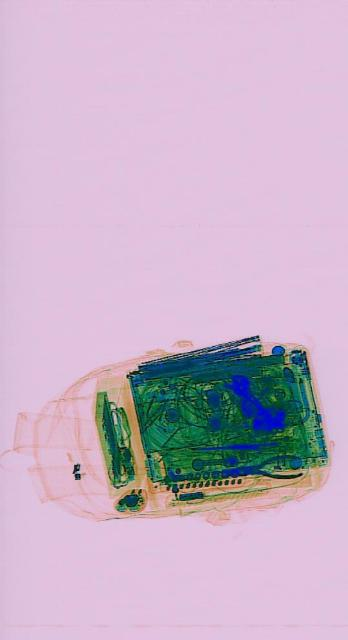Pliers: (233, 450, 300, 486)
